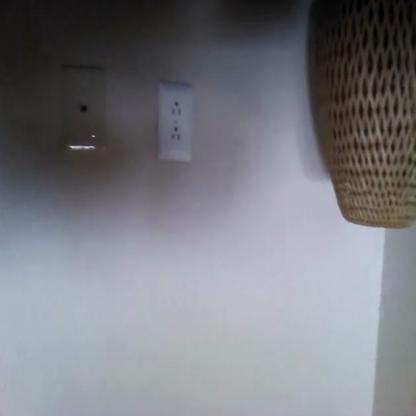OUTLET: (157, 87, 193, 162)
